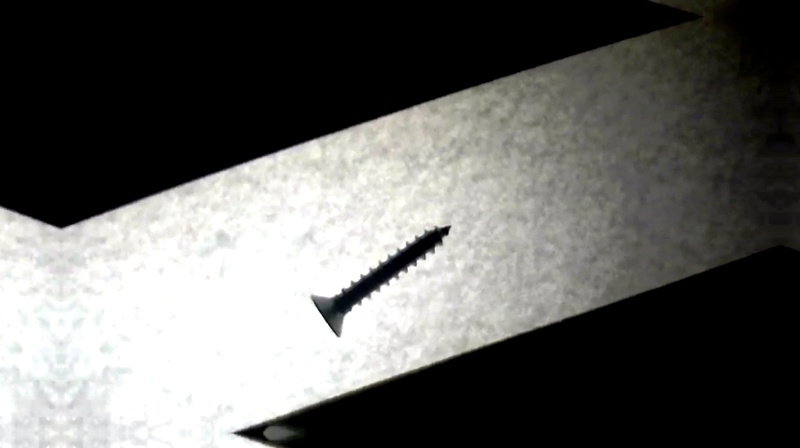S001: (308, 220, 453, 339)
